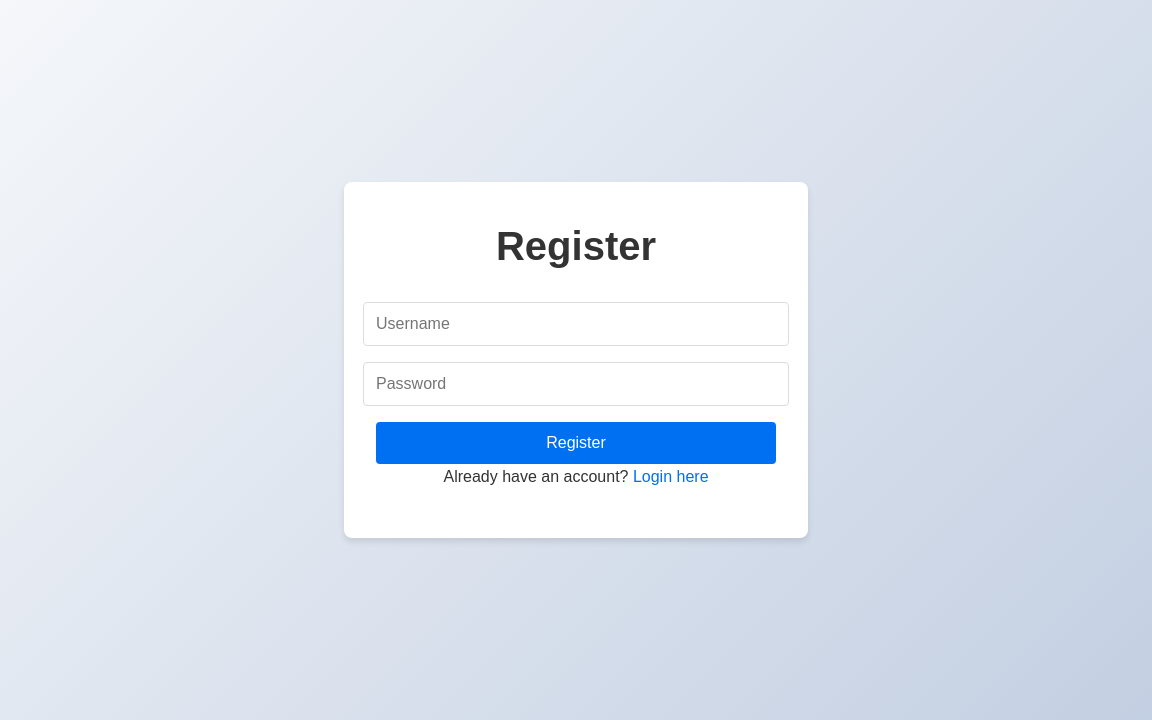
Test: Register Page › displays an error message when inputs are empty
Click the button "Register": (576, 443) [376,422,776,464]
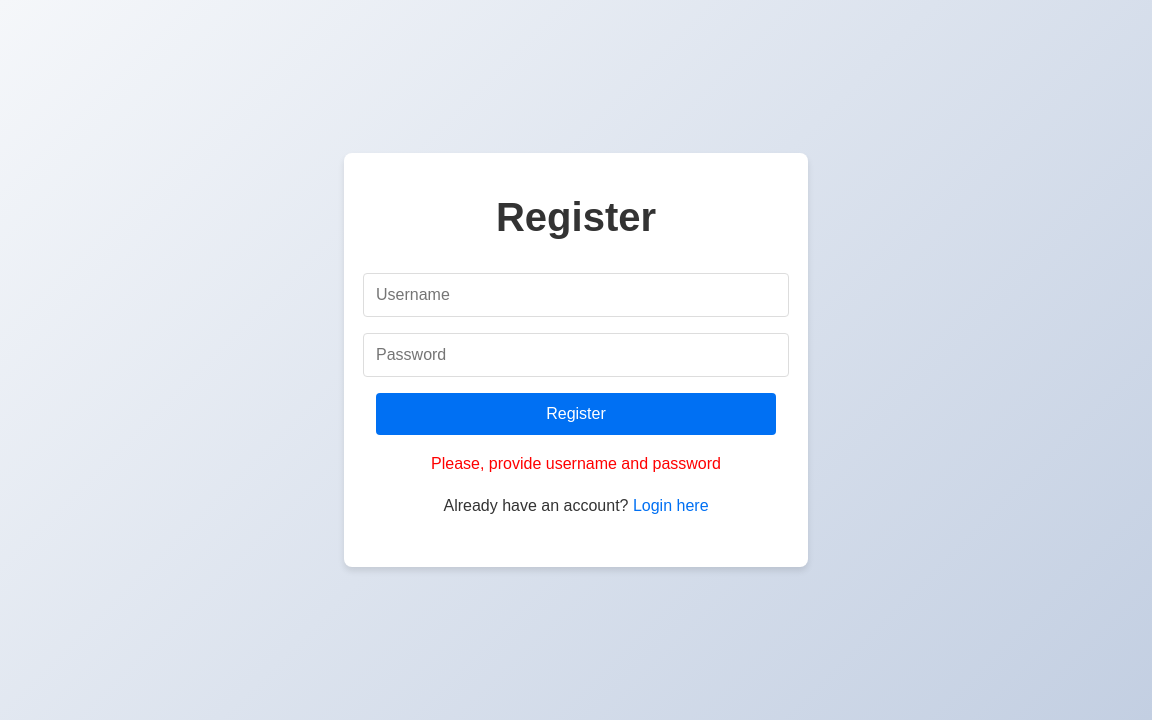
Check: the text "Please, provide username and password" is shown, box [431,451,721,477]
